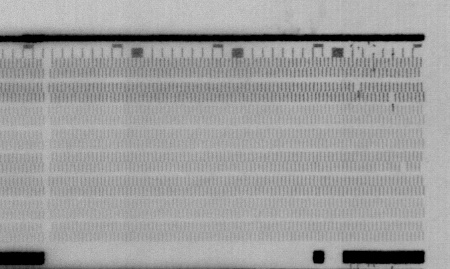Broken hole: (398, 161, 410, 173)
Oblique printing: (352, 81, 363, 97), (386, 91, 397, 106)
